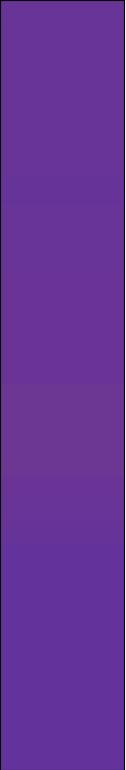safe: (13, 9, 114, 759)
